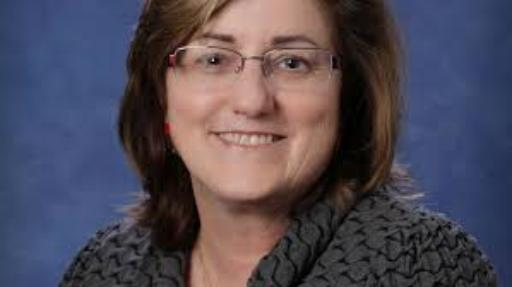left_eye: (276, 59, 317, 74)
left_lip_corner: (277, 132, 294, 143)
right_eye: (189, 56, 238, 72)
right_lip_corner: (206, 126, 225, 140)
